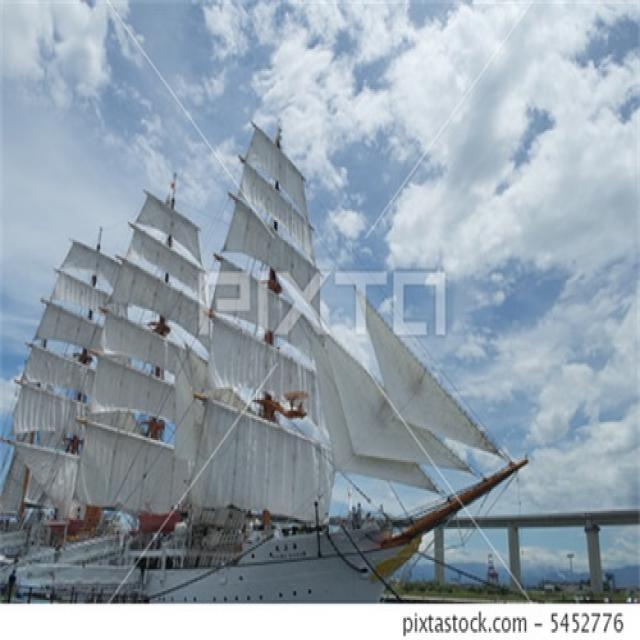Ship: (8, 130, 519, 607)
